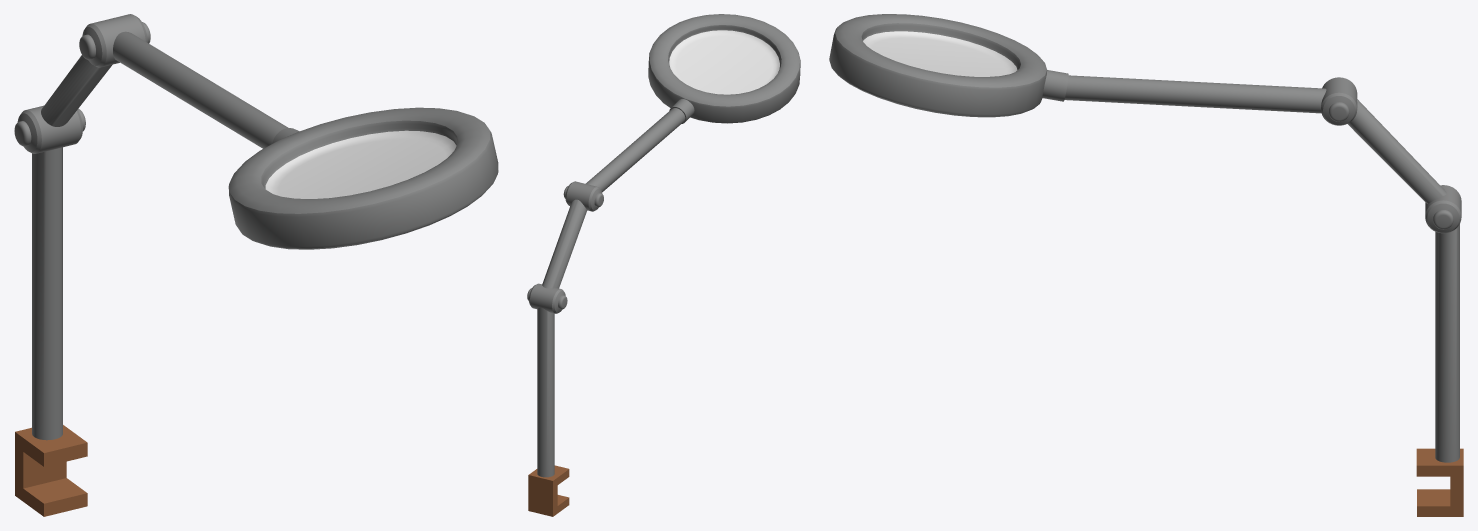
The model's file is Magnifying Glass.fbx.
3 renders of one model, left to right at view 1: azimuth 30°, elevation 25°; view 2: azimuth 150°, elevation 25°; view 3: azimuth 270°, elevation 25°, orthographic. The views are drawn at different scales.
Visible parts, largest first — view 1: Cylinder.001, Cube, Cylinder.002; view 2: Cylinder.001, Cylinder.002, Cube; view 3: Cylinder.001, Cylinder.002, Cube.
Part boxes in pixels (<box>): Cylinder.001: <box>32,31,498,440</box>; Cube: <box>15,425,87,516</box>; Cylinder.002: <box>14,14,150,153</box>; Cylinder.001: <box>537,14,800,477</box>; Cylinder.002: <box>527,181,603,313</box>; Cube: <box>528,465,569,516</box>; Cylinder.001: <box>829,14,1459,462</box>; Cylinder.002: <box>1321,77,1461,233</box>; Cube: <box>1416,448,1463,516</box>.
Bounding box in the file's own units: 140 × 340 × 407.
